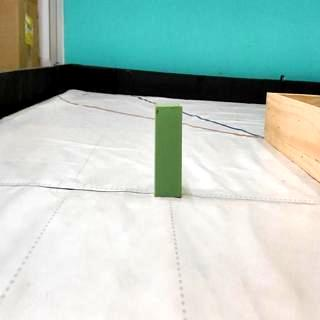greenbox: (152, 101, 184, 198)
